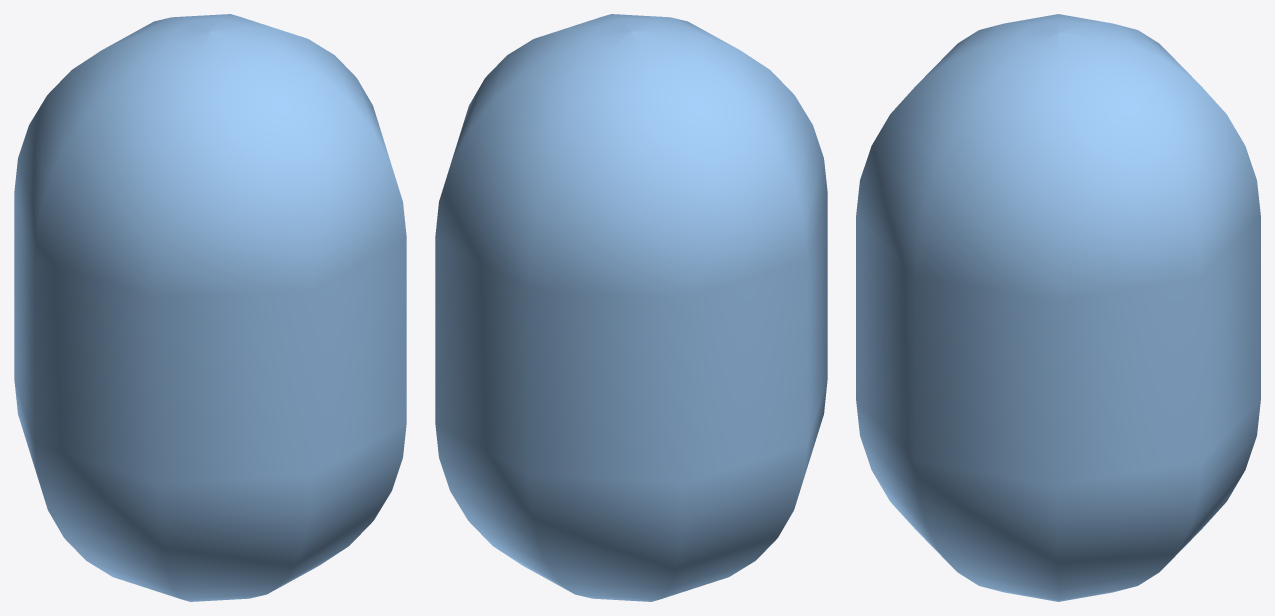
The picture shows the model from 3 angles, left to right: view 1: azimuth 30°, elevation 25°; view 2: azimuth 150°, elevation 25°; view 3: azimuth 270°, elevation 25°; orthographic projection.
Visible parts, largest first — view 1: Capsule; view 2: Capsule; view 3: Capsule.
Part boxes in pixels (left/top/right/bottom): Capsule: left=14, top=14, right=406, bottom=601; Capsule: left=435, top=14, right=827, bottom=601; Capsule: left=856, top=14, right=1260, bottom=601.
Size of the model in its own units: 2 by 3 by 2.
